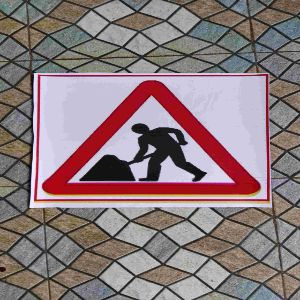men at work: (29, 72, 277, 206)
